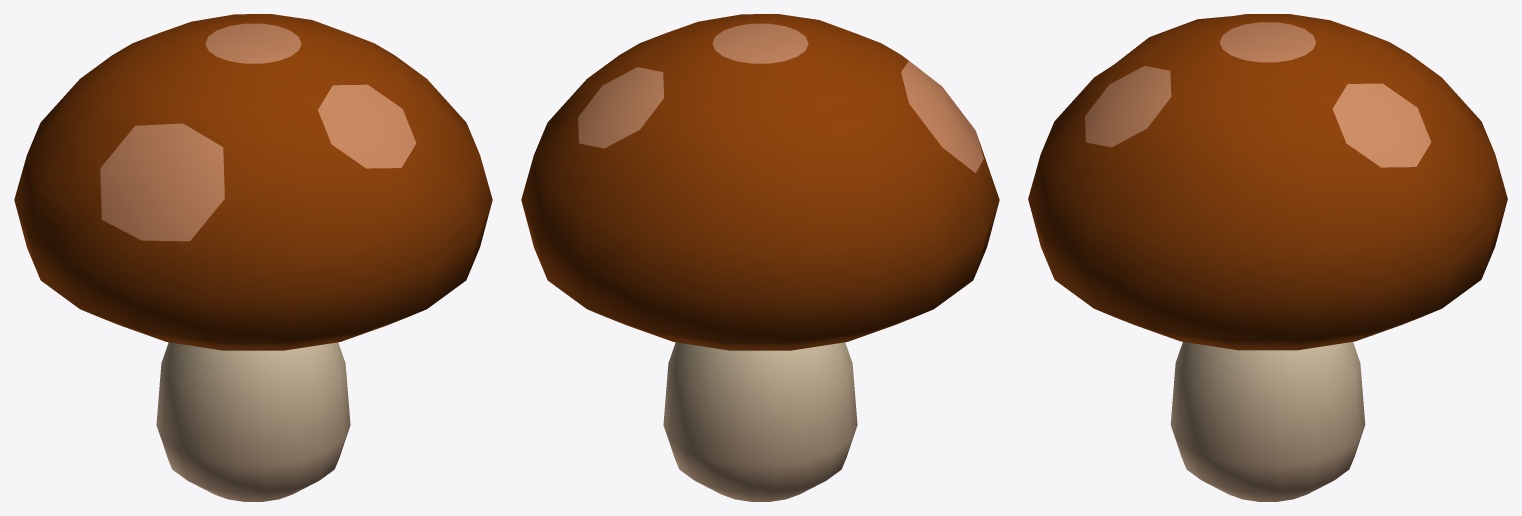
File: Mushroom_Single_02.fbx
3 renders of one model, left to right at view 1: azimuth 30°, elevation 25°; view 2: azimuth 150°, elevation 25°; view 3: azimuth 270°, elevation 25°, orthographic.
Parts seen in each view (by area): view 1: Mushroom_Single_02; view 2: Mushroom_Single_02; view 3: Mushroom_Single_02.
Part boxes in pixels (left/top/right/bottom): Mushroom_Single_02: left=14, top=14, right=492, bottom=501; Mushroom_Single_02: left=521, top=14, right=999, bottom=501; Mushroom_Single_02: left=1028, top=14, right=1507, bottom=501.
Size of the model in its own units: 21.75 by 22.27 by 22.09.
